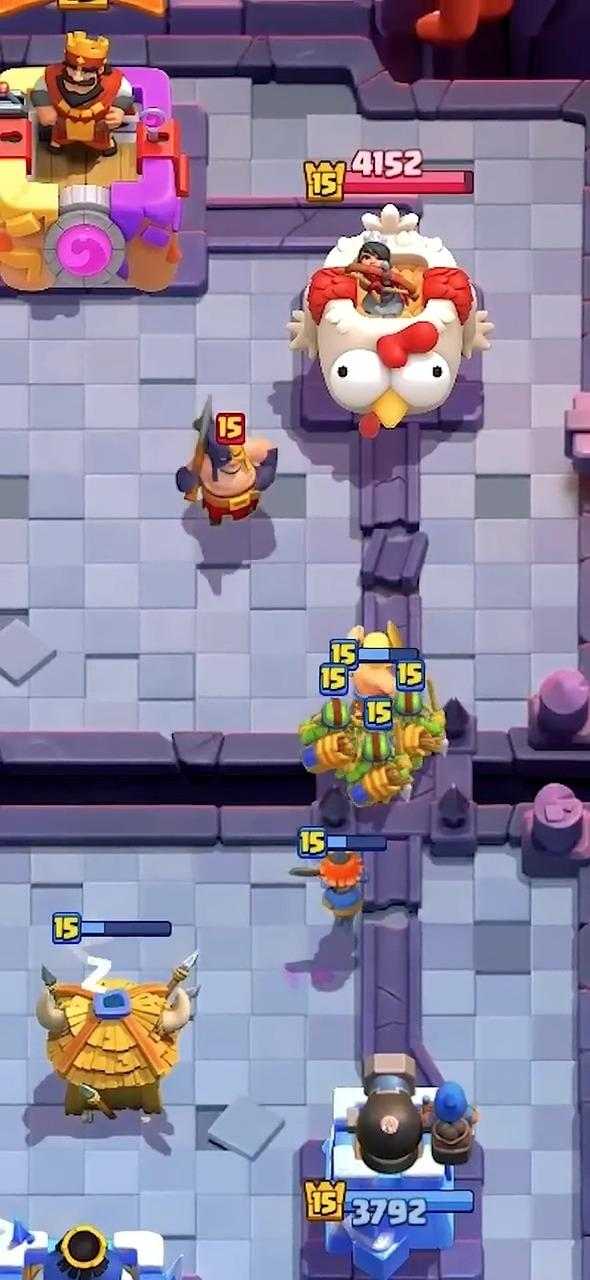barbarian: (348, 622, 401, 655), (353, 662, 394, 698)
executioner: (177, 400, 277, 527)
goblin hut: (36, 953, 197, 1119)
spear goblin: (335, 729, 413, 806), (394, 681, 447, 758), (302, 698, 355, 772)
valkyrie: (291, 850, 364, 923)
